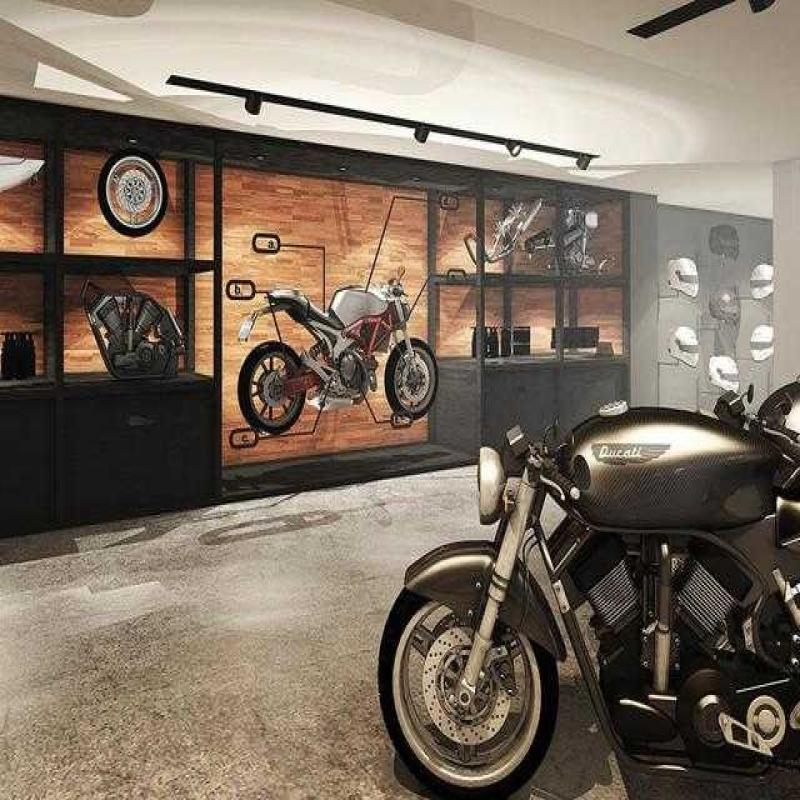bike: (378, 417, 800, 797), (199, 207, 496, 484)
